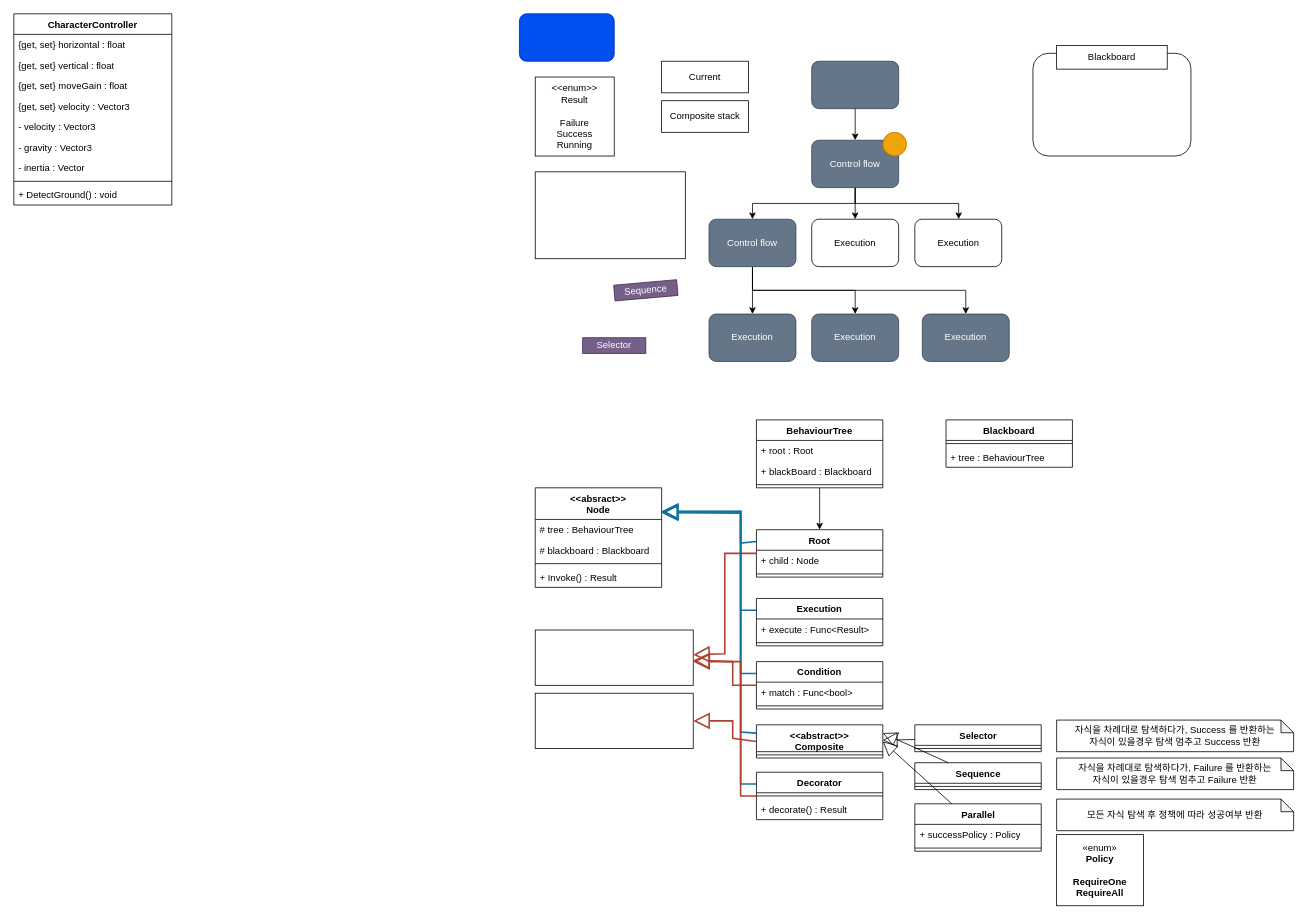
Some shapes in this 1307 by 920 pixel diagram are drawn without their labels. Each missing label, with the centre of its shape:
Behaviour Tree (행동트리): the point at 566,37
Entry (Root): the point at 855,84
Root : 최상단 노드 Control flow : 흐름제어 노드 Execution : 말단 노드: the point at 609,215
«interface» IParentOfChild {get, set} child : Node: the point at 613,657
«interface» IParentOfChildren {get, set} children : List<Node>: the point at 613,720
